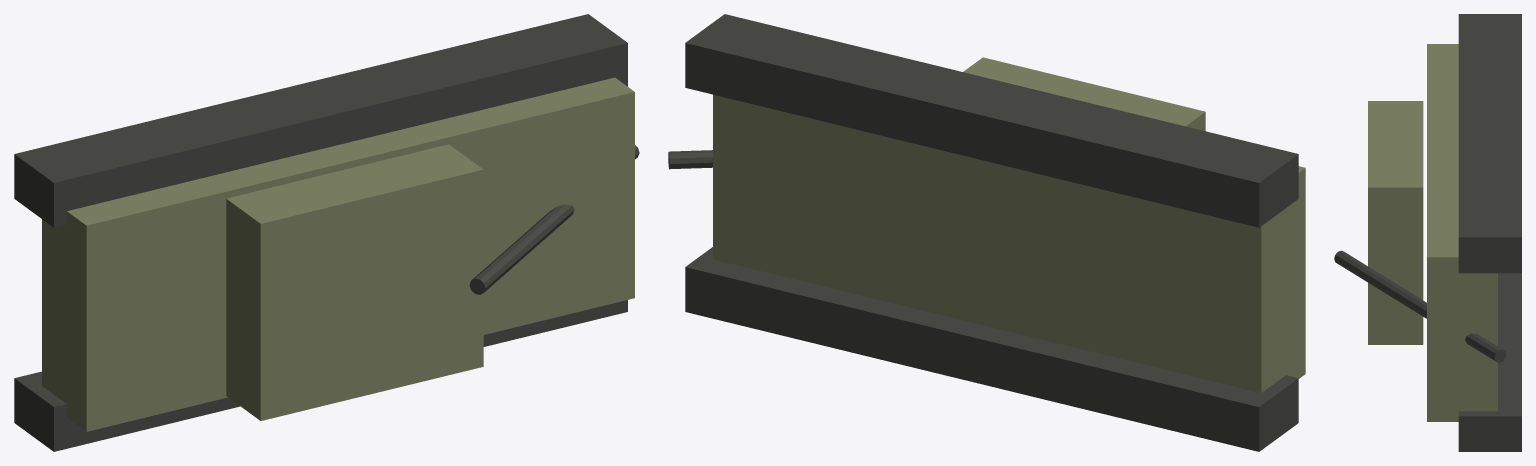
File: howitzer.glb
3 renders of one model, left to right at view 1: azimuth 30°, elevation 25°; view 2: azimuth 150°, elevation 25°; view 3: azimuth 270°, elevation 25°, orthographic. The views are drawn at different scales.
Parts seen in each view (by area): view 1: geometry_0; view 2: geometry_0; view 3: geometry_0.
Boxes of the visible parts, x1,y1,x2,y2 form: geometry_0: [14, 14, 639, 451]; geometry_0: [668, 14, 1305, 451]; geometry_0: [1334, 14, 1521, 451].
Bounding box in the file's own units: 7.1 × 3 × 2.38.
